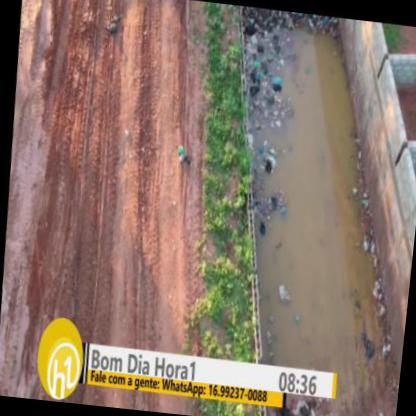agua: (250, 40, 354, 367)
